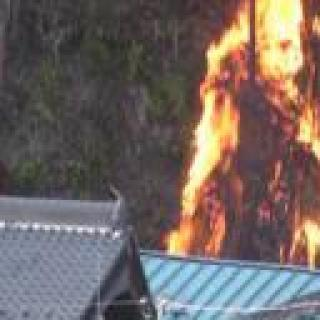fire: (176, 0, 320, 271)
